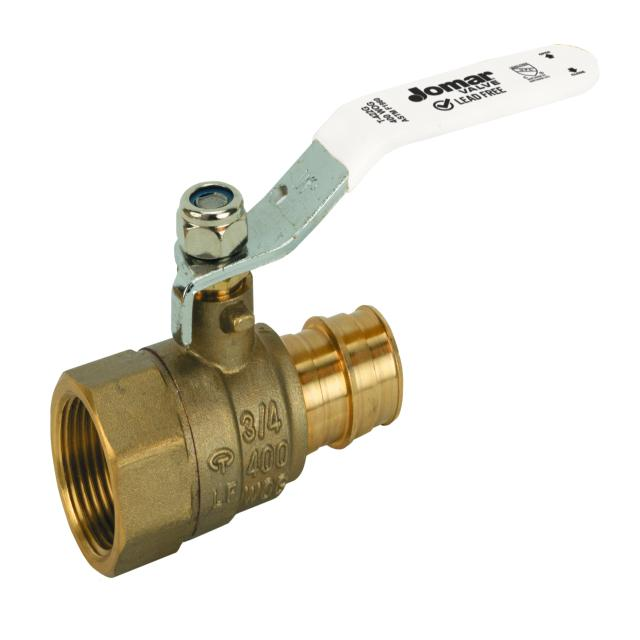opened_valve: (47, 38, 601, 586)
